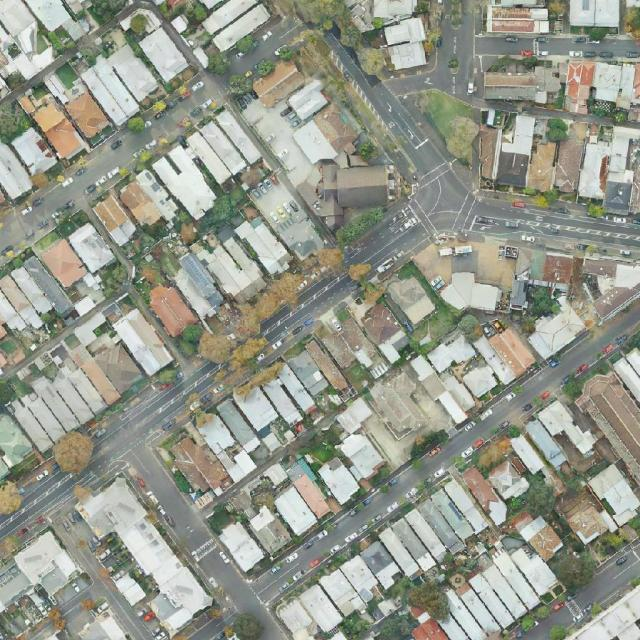building: (273, 477, 493, 640), (75, 473, 216, 636), (404, 535, 567, 640), (405, 325, 506, 427), (570, 366, 640, 484), (75, 37, 165, 128), (520, 396, 608, 486), (0, 529, 82, 624), (187, 222, 271, 309), (42, 61, 118, 149), (313, 308, 390, 393), (17, 82, 91, 168), (185, 108, 263, 188), (311, 163, 400, 228), (150, 144, 222, 223), (166, 429, 236, 505), (520, 295, 590, 364), (586, 126, 640, 215), (474, 111, 535, 188), (115, 167, 182, 237), (111, 306, 176, 378), (0, 264, 59, 343), (363, 374, 429, 443), (481, 54, 566, 107), (474, 319, 539, 387), (195, 414, 258, 484), (5, 387, 68, 454), (354, 299, 416, 367), (233, 213, 296, 279), (439, 265, 506, 326), (258, 363, 318, 429), (282, 458, 342, 524), (86, 329, 145, 395), (199, 0, 272, 53), (21, 0, 93, 51), (303, 337, 358, 403), (141, 279, 199, 340), (321, 99, 368, 172), (382, 267, 439, 327), (460, 463, 513, 527), (249, 56, 308, 113), (56, 359, 112, 417), (333, 429, 388, 486), (30, 374, 82, 434), (177, 249, 227, 311), (511, 506, 565, 563), (137, 26, 190, 83), (290, 115, 344, 170), (66, 220, 118, 276), (381, 15, 432, 72), (551, 119, 589, 194), (294, 163, 343, 220), (214, 397, 262, 454), (9, 125, 59, 179), (230, 379, 280, 433), (216, 519, 266, 573), (91, 193, 140, 248), (39, 238, 89, 291), (244, 503, 293, 556), (169, 268, 216, 323), (527, 117, 561, 193), (314, 454, 363, 506), (272, 485, 319, 537), (345, 0, 418, 33), (312, 100, 360, 150), (51, 372, 95, 426), (576, 138, 613, 200), (274, 363, 318, 415), (562, 498, 609, 546), (486, 457, 532, 505), (0, 139, 35, 202), (286, 349, 330, 399), (286, 77, 333, 122), (80, 357, 122, 406), (0, 412, 36, 469), (507, 431, 548, 478), (119, 2, 162, 44), (335, 397, 375, 436), (614, 349, 640, 402), (114, 571, 148, 607), (369, 593, 405, 623), (387, 369, 419, 401), (247, 507, 276, 536), (510, 270, 528, 309), (169, 12, 193, 36), (191, 45, 214, 70), (0, 76, 10, 98), (167, 0, 189, 10), (202, 0, 223, 10), (151, 1, 166, 6)
greenland: (411, 73, 499, 171), (226, 260, 318, 342), (296, 419, 351, 473), (196, 332, 268, 371), (404, 574, 459, 625), (332, 202, 389, 249), (47, 427, 96, 478), (586, 518, 639, 563), (125, 229, 165, 288), (554, 550, 601, 594), (520, 477, 562, 522), (404, 423, 451, 462), (93, 259, 135, 299), (38, 18, 77, 58), (173, 319, 210, 359), (227, 608, 268, 640), (203, 502, 239, 538), (0, 245, 37, 280), (54, 206, 92, 240), (526, 283, 561, 318), (305, 247, 344, 276), (454, 310, 487, 344), (150, 361, 182, 392), (89, 0, 128, 25), (376, 614, 413, 639), (210, 194, 238, 224), (560, 374, 588, 402), (522, 187, 559, 208), (126, 11, 153, 38), (0, 481, 21, 514), (234, 32, 259, 57), (546, 117, 570, 143), (227, 75, 253, 97), (253, 57, 278, 79), (584, 23, 609, 44), (274, 43, 296, 65), (209, 52, 230, 75), (504, 493, 525, 514), (517, 613, 538, 634), (348, 264, 372, 282), (587, 201, 606, 219), (534, 603, 552, 621), (628, 512, 640, 534), (128, 116, 144, 131)
metalled_road: (0, 351, 229, 551), (316, 32, 435, 160), (4, 14, 122, 102), (342, 191, 444, 287), (256, 266, 358, 352), (221, 5, 308, 92), (400, 160, 485, 246), (175, 597, 242, 640), (403, 139, 452, 187), (450, 0, 475, 78), (381, 67, 441, 99), (433, 19, 457, 95), (475, 33, 533, 55), (164, 23, 196, 61), (454, 40, 458, 53)
